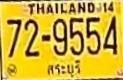2: (24, 18, 38, 56)
4: (102, 15, 116, 54)
5: (69, 17, 84, 55), (85, 16, 100, 54)
7: (6, 18, 21, 57)
9: (52, 18, 67, 54)
SRI: (45, 58, 81, 78)
